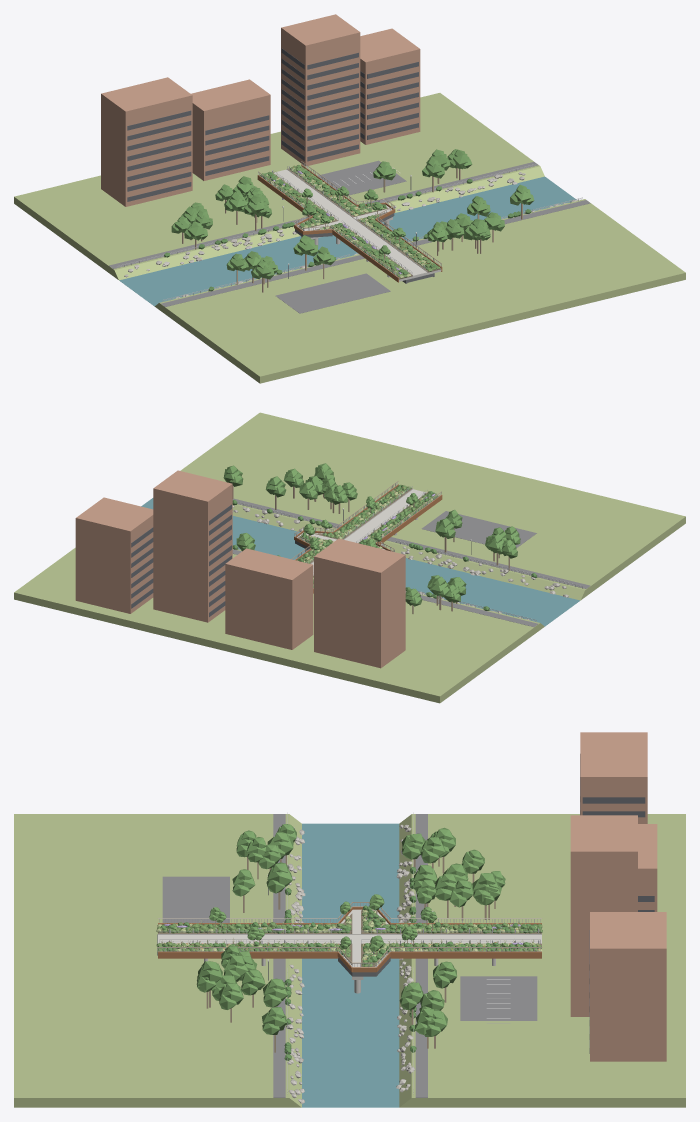
The model's file is clay-planted-green-bridge-clay-v002.glb.
The picture shows the model from 3 angles, top to bottom: view 1: azimuth 30°, elevation 25°; view 2: azimuth 150°, elevation 25°; view 3: azimuth 270°, elevation 25°; orthographic projection. The views are drawn at different scales.
Visible parts, largest first — view 1: CLAY_GRASS, CLAY_BRICK, CLAY_DARK, CLAY_WATER, CLAY_TREE, CLAY_ASPHALT, CLAY_RAIL, CLAY_SHRUB, CLAY_PATH, CLAY_PLANTING, CLAY_ROCK, CLAY_CORTEN (+2 smaller); view 2: CLAY_GRASS, CLAY_BRICK, CLAY_WATER, CLAY_TREE, CLAY_ASPHALT, CLAY_DARK, CLAY_RAIL, CLAY_SHRUB, CLAY_PLANTING, CLAY_ROCK, CLAY_PATH, CLAY_TIMBER (+1 smaller); view 3: CLAY_GRASS, CLAY_BRICK, CLAY_WATER, CLAY_TREE, CLAY_ASPHALT, CLAY_RAIL, CLAY_PATH, CLAY_SHRUB, CLAY_CORTEN, CLAY_PLANTING, CLAY_ROCK, CLAY_TIMBER (+3 smaller).
Part boxes in pixels (<box>): CLAY_GRASS: <box>14,93,685,383</box>; CLAY_BRICK: <box>101,14,420,206</box>; CLAY_DARK: <box>127,48,418,278</box>; CLAY_WATER: <box>119,176,576,306</box>; CLAY_TREE: <box>171,149,534,279</box>; CLAY_ASPHALT: <box>109,160,590,313</box>; CLAY_RAIL: <box>116,161,582,302</box>; CLAY_SHRUB: <box>164,171,531,291</box>; CLAY_PATH: <box>274,169,427,275</box>; CLAY_PLANTING: <box>260,165,440,277</box>; CLAY_ROCK: <box>124,172,578,298</box>; CLAY_CORTEN: <box>257,164,442,282</box>; CLAY_GRASS: <box>14,412,685,703</box>; CLAY_BRICK: <box>75,470,405,668</box>; CLAY_WATER: <box>141,498,580,626</box>; CLAY_TREE: <box>223,463,520,606</box>; CLAY_ASPHALT: <box>232,498,590,626</box>; CLAY_DARK: <box>131,504,471,616</box>; CLAY_RAIL: <box>237,482,582,622</box>; CLAY_SHRUB: <box>232,485,537,610</box>; CLAY_PLANTING: <box>298,484,438,577</box>; CLAY_ROCK: <box>232,505,568,620</box>; CLAY_PATH: <box>297,489,426,575</box>; CLAY_TIMBER: <box>232,480,509,613</box>; CLAY_GRASS: <box>14,814,685,1107</box>; CLAY_BRICK: <box>570,732,666,1061</box>; CLAY_WATER: <box>302,823,399,1107</box>; CLAY_TREE: <box>187,824,537,1036</box>; CLAY_ASPHALT: <box>162,814,537,1097</box>; CLAY_RAIL: <box>158,812,541,1093</box>; CLAY_PATH: <box>158,909,541,966</box>; CLAY_SHRUB: <box>160,867,541,1060</box>; CLAY_CORTEN: <box>158,906,541,972</box>; CLAY_PLANTING: <box>156,912,542,966</box>; CLAY_ROCK: <box>286,824,414,1103</box>; CLAY_TIMBER: <box>157,855,542,1052</box>.
Size of the model in its own units: 140 by 40.19 by 140.
